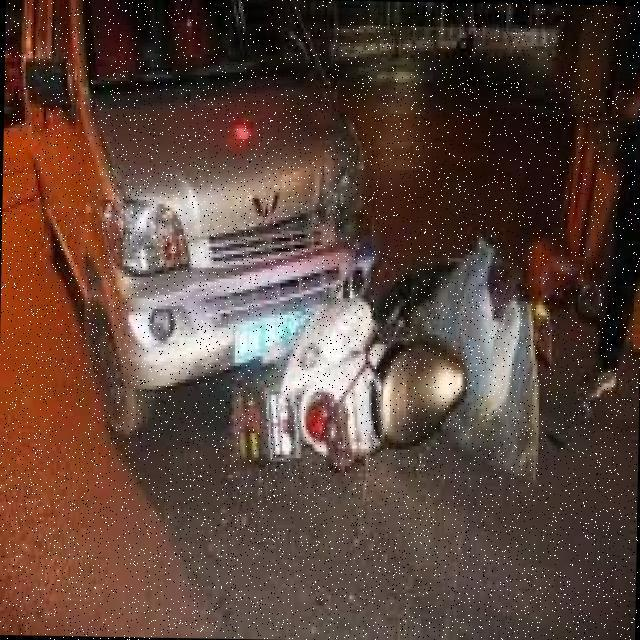accident: (85, 154, 573, 504)
